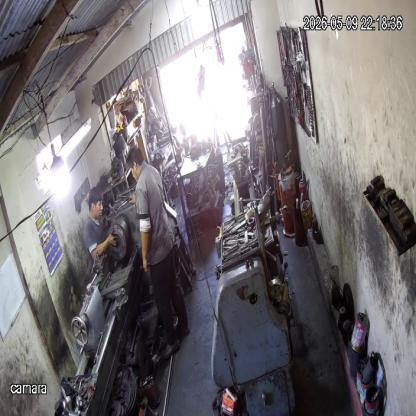sin_lentes: (95, 199, 105, 210)
